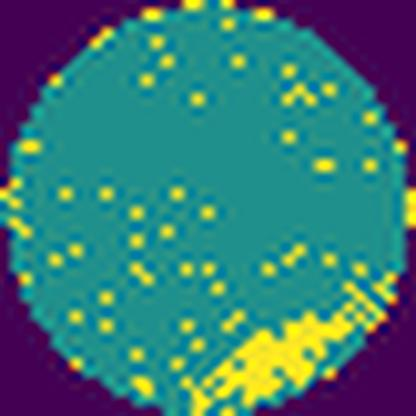Edge-Loc: (189, 280, 388, 416)
